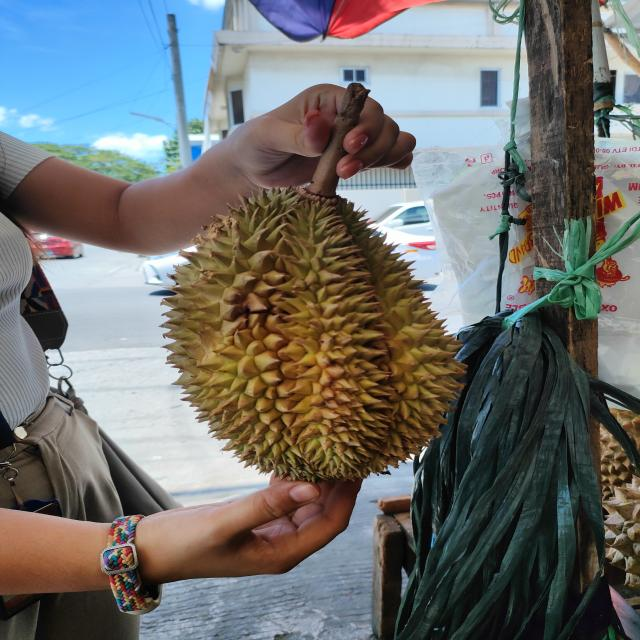mature: (155, 186, 468, 485)
